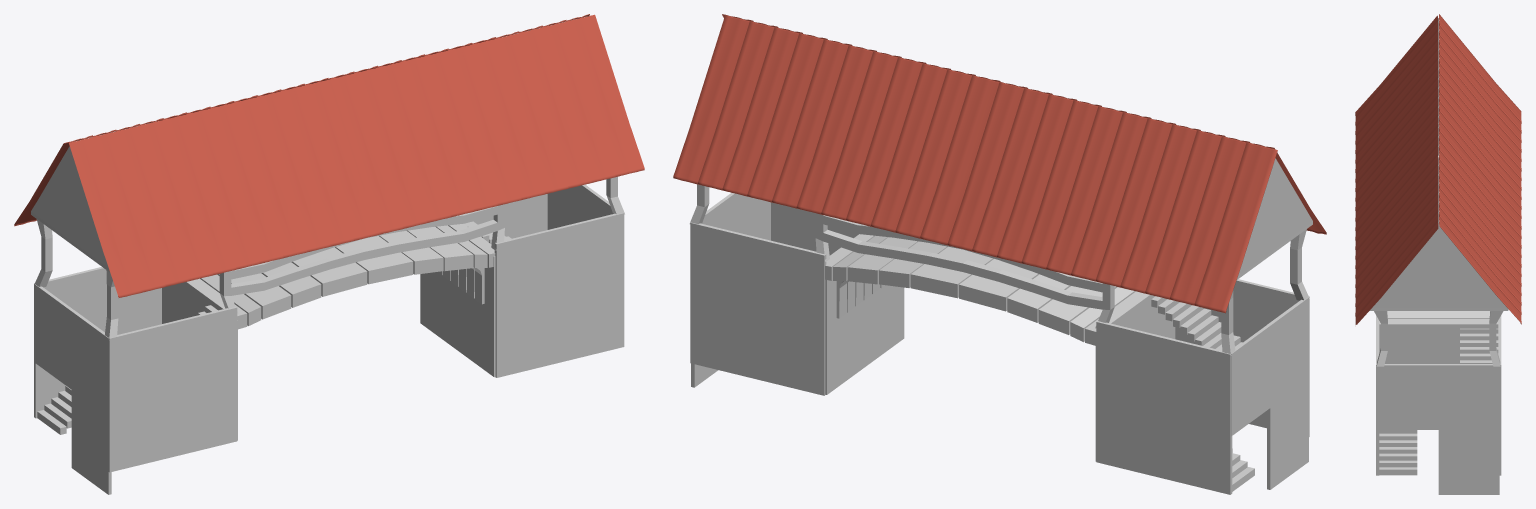
File: Walkway.fbx
The picture shows the model from 3 angles, left to right: view 1: azimuth 30°, elevation 25°; view 2: azimuth 150°, elevation 25°; view 3: azimuth 270°, elevation 25°; orthographic projection. The views are drawn at different scales.
Visible parts, largest first — view 1: Roof.002, Roof, Cube.001, Cube.006, Cube.013, Board, Cube.016, Cube.002, Cube.007, Cube.012, Cube, Cube.017 (+5 smaller); view 2: Roof.001, Roof.003, Cube.007, Cube, Cube.013, Board, Cube.016, Cube.002, Cube.012, Cube.006, Cube.011, Cube.001 (+5 smaller); view 3: Roof.002, Roof.001, Roof, Roof.003, Cube.014, Cube.013, Cube.017, Board, Cube.054, Cube.003, Cube.005, Cube (+2 smaller).
Boxes of the visible parts, x1,y1,x2,y2 form: Roof.002: [330, 14, 644, 234]; Roof: [69, 79, 381, 297]; Cube.001: [494, 213, 624, 377]; Cube.006: [108, 306, 237, 472]; Cube.013: [31, 16, 624, 339]; Board: [173, 224, 495, 329]; Cube.016: [34, 284, 108, 415]; Cube.002: [420, 256, 495, 377]; Cube.007: [34, 267, 161, 418]; Cube.012: [71, 311, 111, 494]; Cube: [472, 194, 547, 238]; Cube.017: [547, 185, 583, 229]; Roof.001: [947, 82, 1277, 313]; Roof.003: [673, 15, 999, 246]; Cube.007: [1096, 321, 1232, 494]; Cube: [690, 222, 826, 395]; Cube.013: [689, 158, 1312, 355]; Board: [825, 234, 1155, 345]; Cube.016: [1231, 297, 1308, 436]; Cube.002: [825, 280, 904, 394]; Cube.012: [1267, 299, 1308, 489]; Cube.006: [1175, 279, 1309, 436]; Cube.011: [1151, 296, 1242, 350]; Cube.001: [771, 202, 858, 255]; Roof.002: [1355, 121, 1438, 324]; Roof.001: [1439, 14, 1521, 218]; Roof: [1355, 15, 1438, 216]; Roof.003: [1439, 120, 1521, 324]; Cube.014: [1377, 364, 1499, 429]; Cube.013: [1369, 18, 1508, 366]; Cube.017: [1438, 430, 1499, 494]; Board: [1379, 311, 1498, 335]; Cube.054: [1393, 335, 1459, 363]; Cube.003: [1379, 430, 1417, 475]; Cube.005: [1460, 328, 1498, 363]; Cube: [1498, 315, 1501, 475].
Size of the model in its own units: 830 by 489 by 273.
